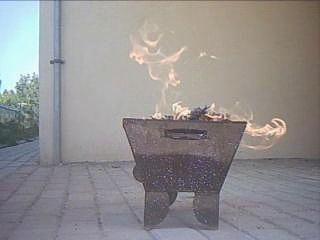fire: (120, 18, 289, 152)
